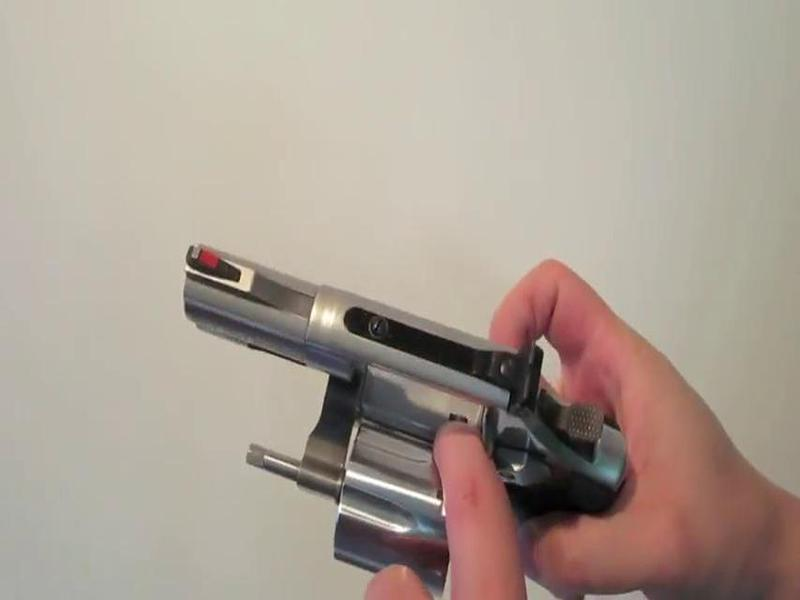Revolver: (153, 206, 630, 600)
